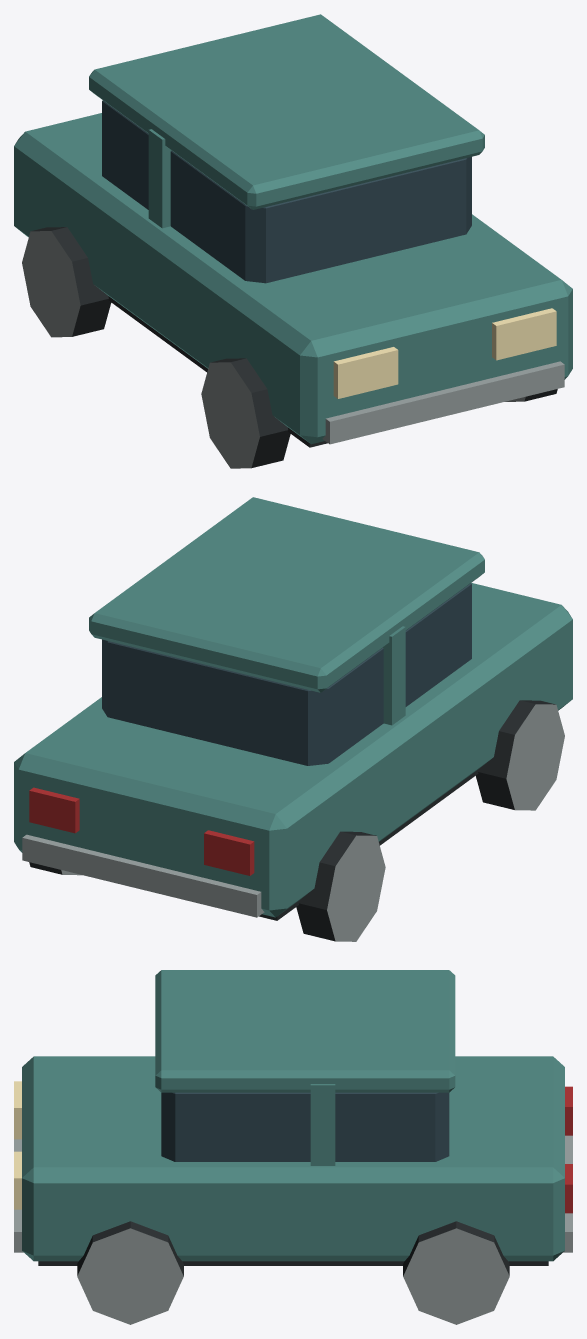
Rendered from VEH_COMPACT_TEAL.glb.
3 views of the same model, one above another, from view 1: azimuth 30°, elevation 25°; view 2: azimuth 150°, elevation 25°; view 3: azimuth 270°, elevation 25° (orthographic). The views are drawn at different scales.
Parts seen in each view (by area): view 1: Body, Wheel_FL, Wheel_RL; view 2: Body, Wheel_FL, Wheel_RL; view 3: Body, Wheel_FR, Wheel_RR.
Boxes of the visible parts, <box> form: Body: <box>14,14,572,447</box>; Wheel_FL: <box>201,358,290,468</box>; Wheel_RL: <box>22,227,111,337</box>; Body: <box>14,497,572,920</box>; Wheel_FL: <box>476,700,564,810</box>; Wheel_RL: <box>296,831,385,941</box>; Body: <box>14,970,572,1265</box>; Wheel_FR: <box>77,1221,183,1324</box>; Wheel_RR: <box>403,1221,509,1324</box>.
Bounding box in the file's own units: 0.324 × 0.265 × 0.566.
